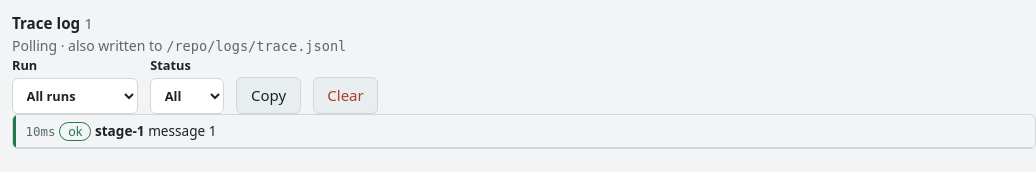
Test: TraceLog › says so when there is nothing yet and when the filters hide everything
Later steps or results of the test are not shown.
Select "error" in the dropdown labelled "Status": (187, 96) [150, 78, 224, 114]
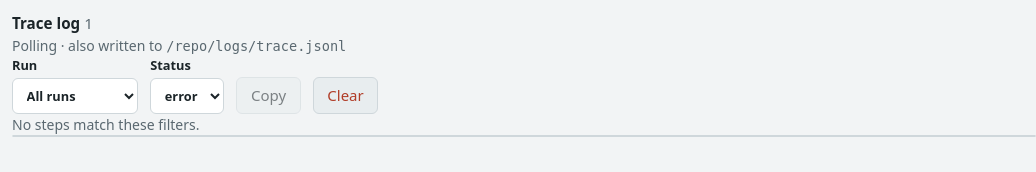
Check: the text "No steps match these filters." is shown, box [12, 115, 200, 134]
